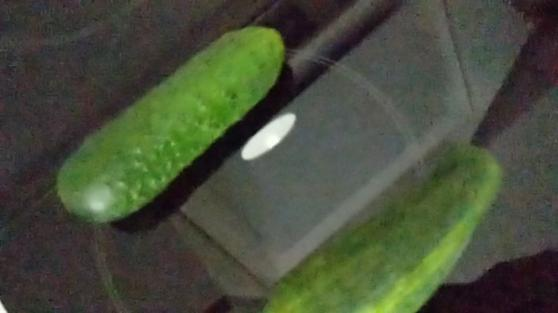cucumber: (57, 24, 286, 224), (259, 145, 503, 313)
